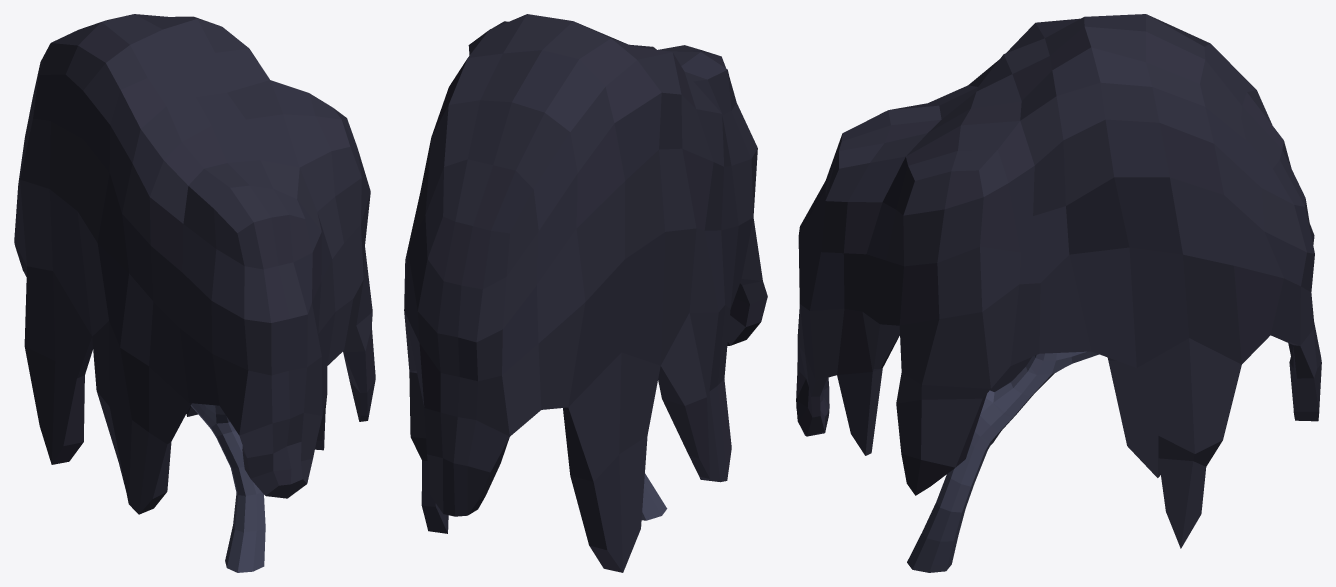
File: Spoky_Tree_4.fbx
The picture shows the model from 3 angles, left to right: view 1: azimuth 30°, elevation 25°; view 2: azimuth 150°, elevation 25°; view 3: azimuth 270°, elevation 25°; orthographic projection. The views are drawn at different scales.
Parts seen in each view (by area): view 1: Spoky_Tree_4; view 2: Spoky_Tree_4; view 3: Spoky_Tree_4.
Part boxes in pixels (<box>): Spoky_Tree_4: <box>14,14,375,572</box>; Spoky_Tree_4: <box>404,14,767,572</box>; Spoky_Tree_4: <box>796,14,1321,572</box>.
Size of the model in its own units: 10.28 by 20.18 by 18.1.
